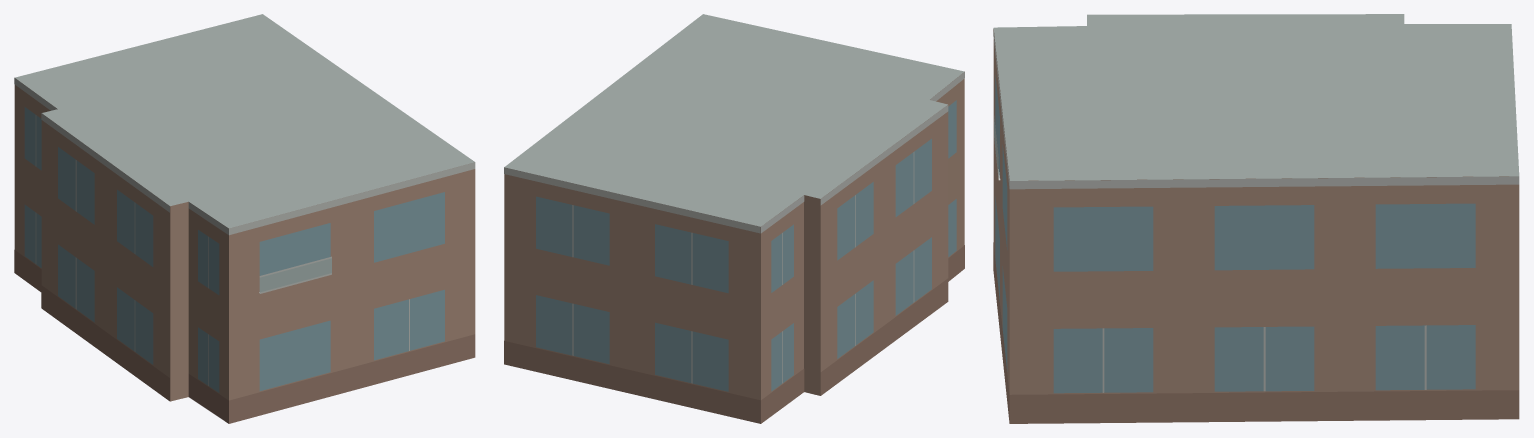
File: survey-upis-32984154.glb
3 views of the same model, side by side, from view 1: azimuth 30°, elevation 25°; view 2: azimuth 150°, elevation 25°; view 3: azimuth 270°, elevation 25° (orthographic). The views are drawn at different scales.
Parts seen in each view (by area): view 1: survey-upis-32984154.tmp; view 2: survey-upis-32984154.tmp; view 3: survey-upis-32984154.tmp.
Boxes of the visible parts, x1,y1,x2,y2 form: survey-upis-32984154.tmp: (14,14,475,423); survey-upis-32984154.tmp: (504,14,964,423); survey-upis-32984154.tmp: (993,14,1519,423).
Bounding box in the file's own units: 10.47 × 7.1 × 13.94.
